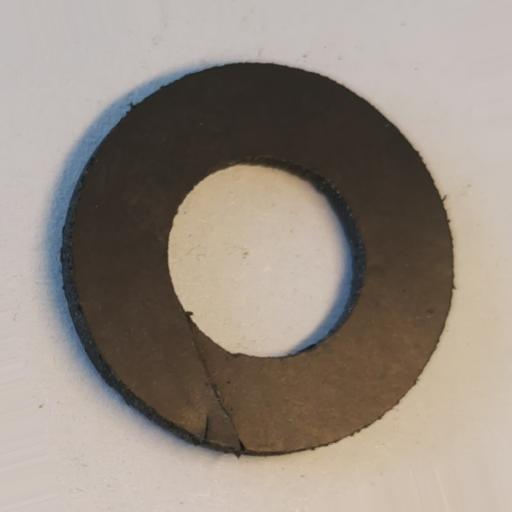defect: (187, 315, 247, 454)
